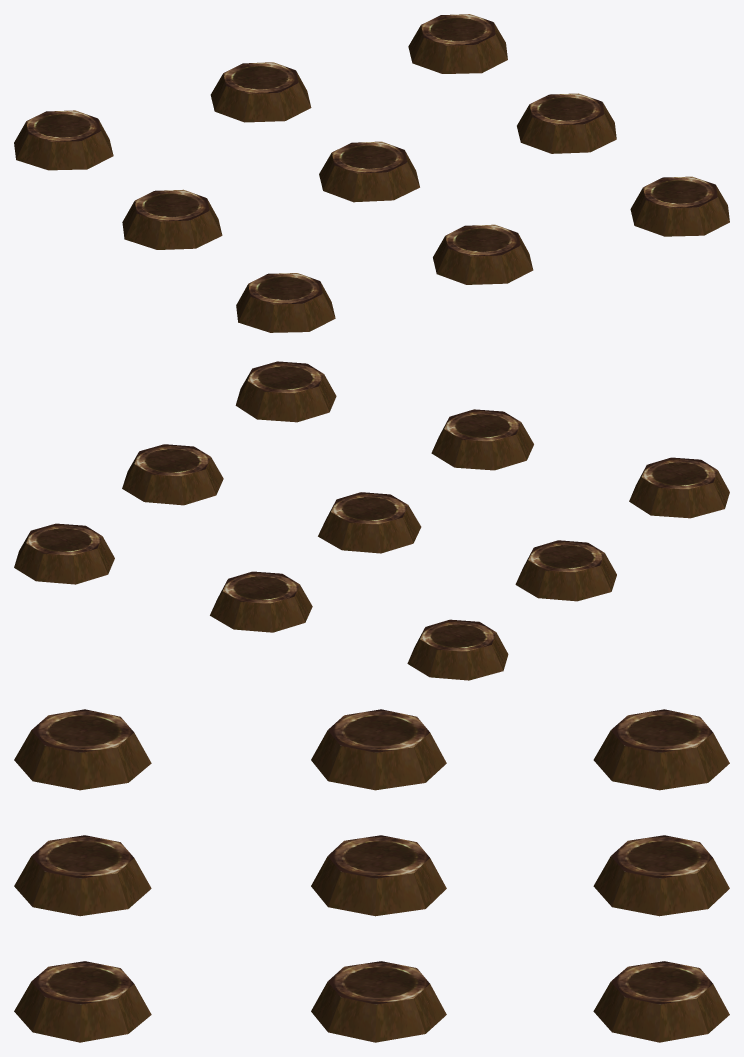
File: Scene_dingci_001a.FBX
3 renders of one model, top to bottom at view 1: azimuth 30°, elevation 25°; view 2: azimuth 150°, elevation 25°; view 3: azimuth 270°, elevation 25°, orthographic. The views are drawn at different scales.
Visible parts, largest first — view 1: Scene_dingci_001a; view 2: Scene_dingci_001a; view 3: Scene_dingci_001a.
Boxes of the visible parts, x1,y1,x2,y2 form: Scene_dingci_001a: (14, 14, 729, 332); Scene_dingci_001a: (14, 361, 729, 680); Scene_dingci_001a: (14, 709, 729, 1042).
Bounding box in the file's own units: 3.87 × 0.1768 × 3.77.
